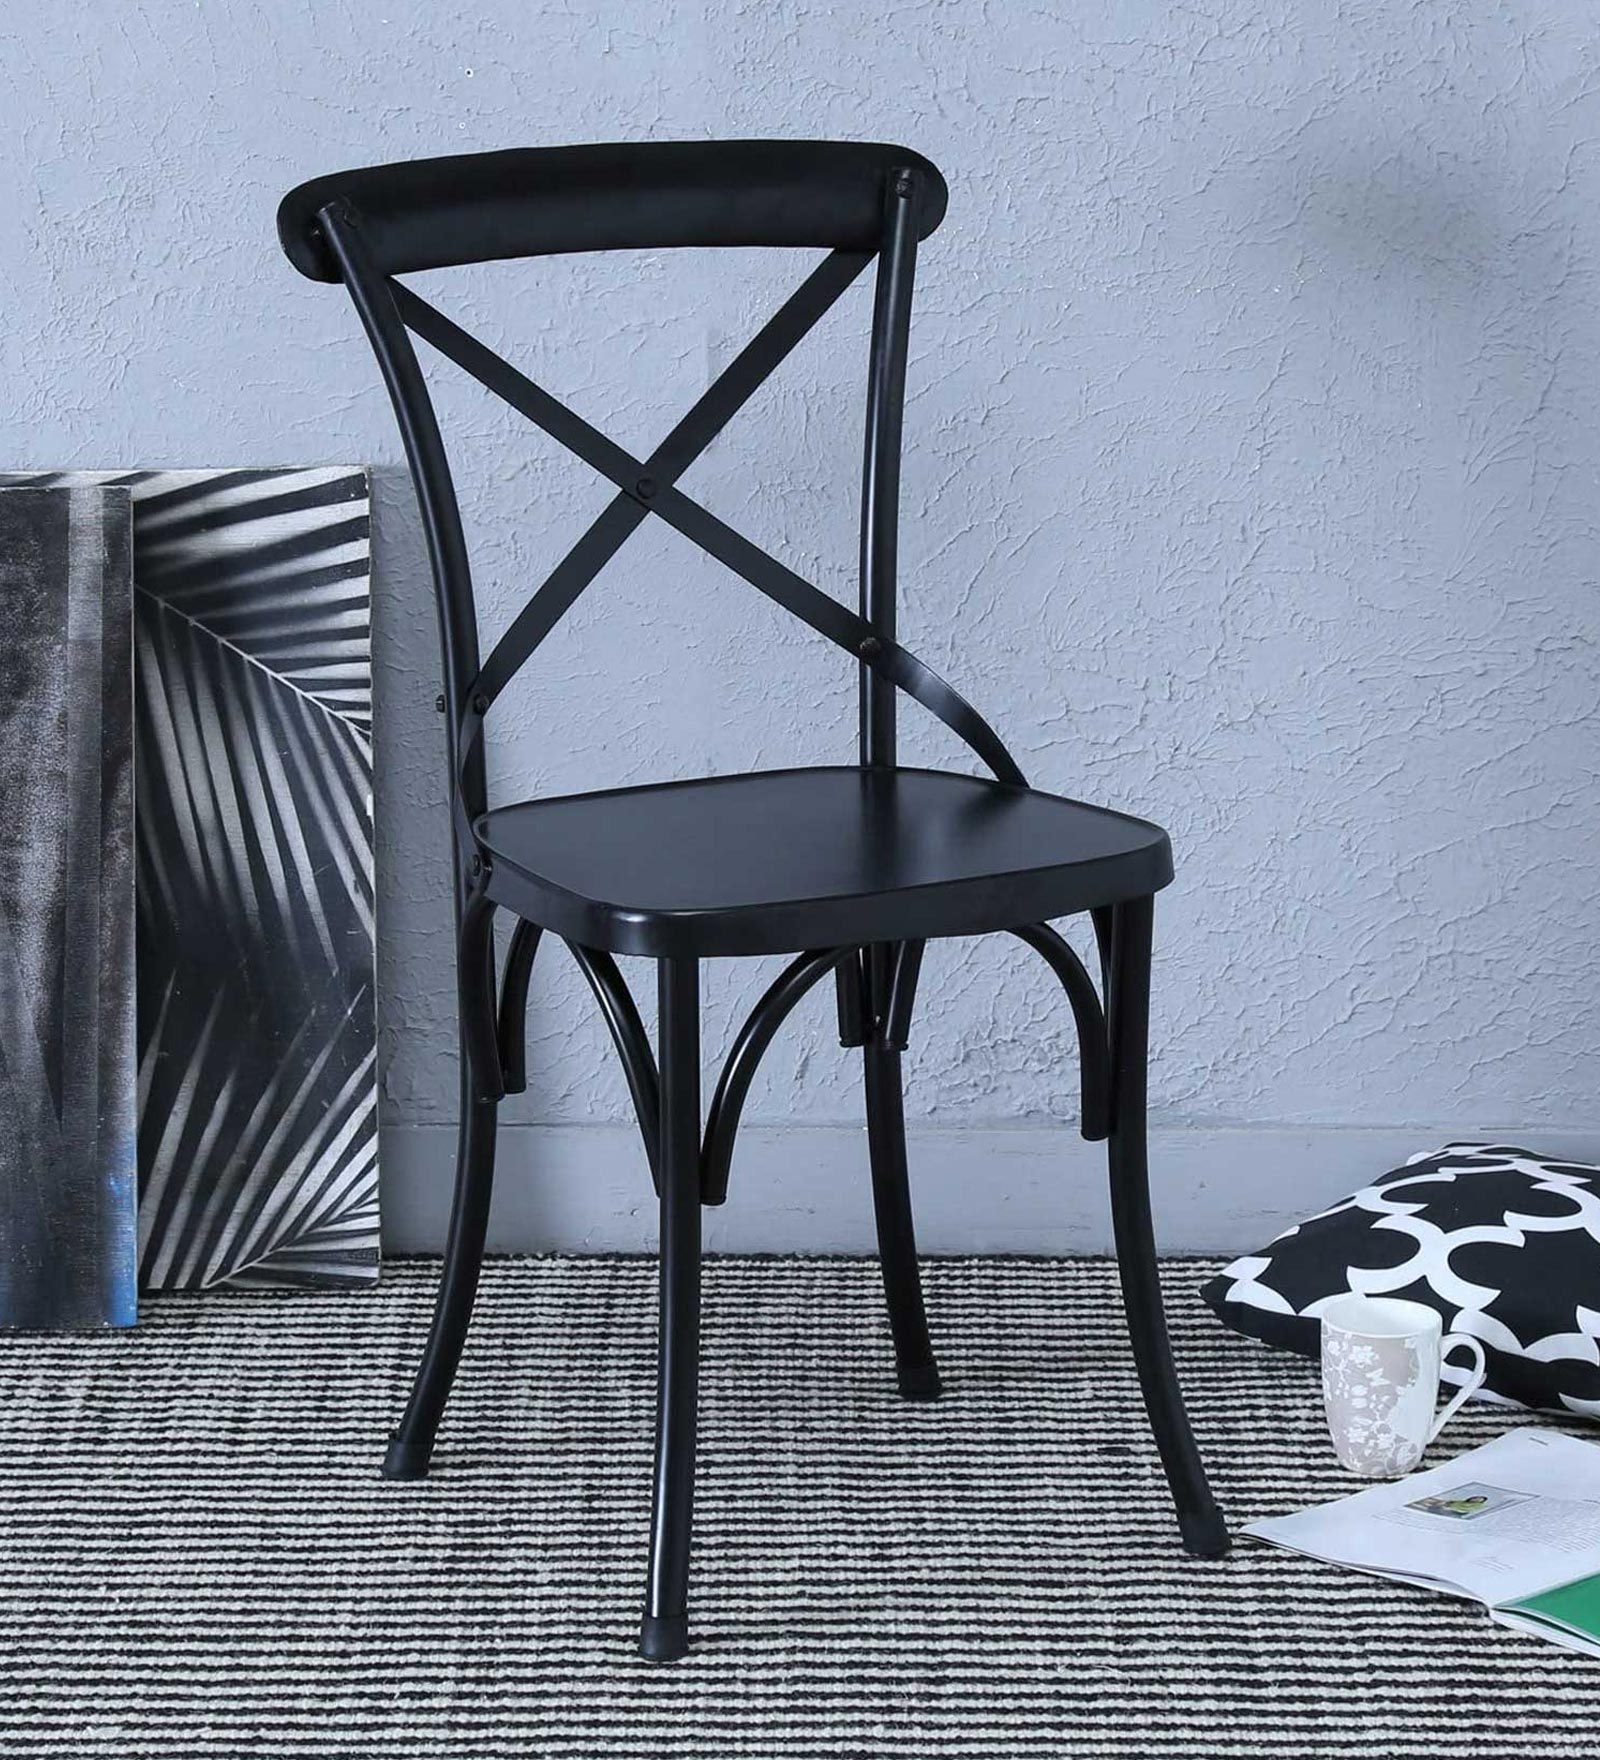Fabian Metal Chair in Black Color by Bohemiana: (247, 127, 1287, 1674)
